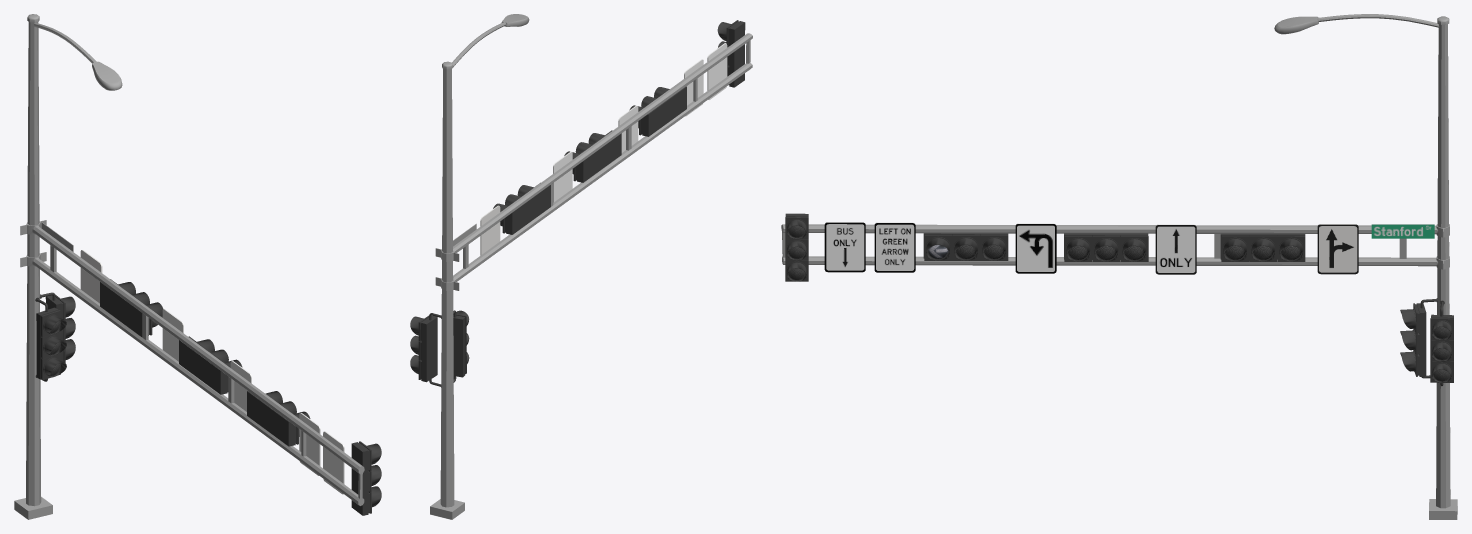
File: Light2.fbx
The picture shows the model from 3 angles, left to right: view 1: azimuth 30°, elevation 25°; view 2: azimuth 150°, elevation 25°; view 3: azimuth 270°, elevation 25°; orthographic projection. The views are drawn at different scales.
Parts seen in each view (by area): view 1: Traffic Lights.018; view 2: Traffic Lights.018; view 3: Traffic Lights.018.
Part boxes in pixels (bbox=[...]): Traffic Lights.018: bbox=[14, 14, 381, 519]; Traffic Lights.018: bbox=[410, 14, 752, 519]; Traffic Lights.018: bbox=[781, 14, 1457, 519].
Size of the model in its own units: 134 by 1248 by 1531.
